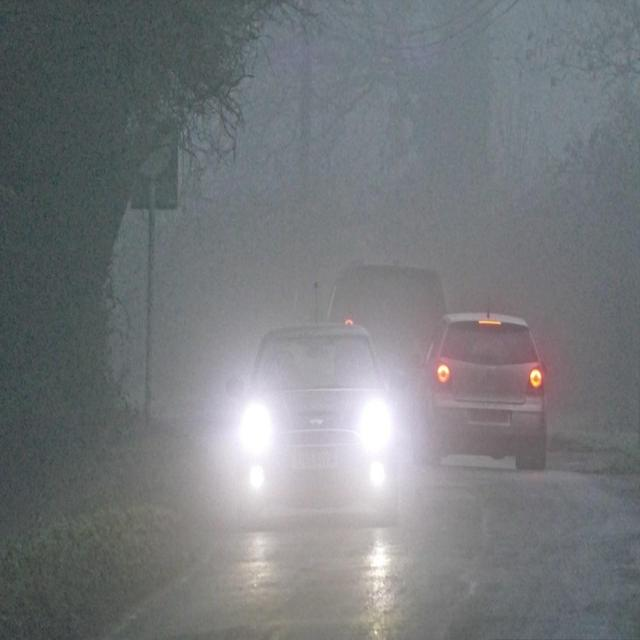Car: (229, 317, 404, 526), (418, 308, 550, 473)
